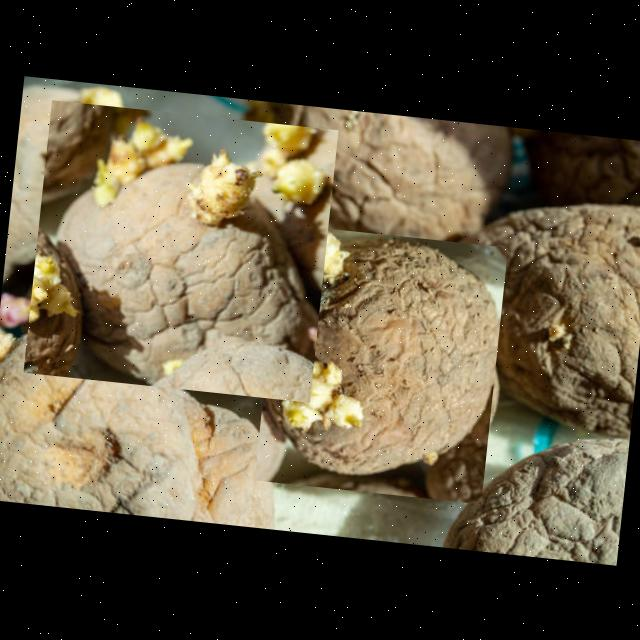Sprouted potato: (23, 100, 338, 402), (254, 224, 508, 504)
